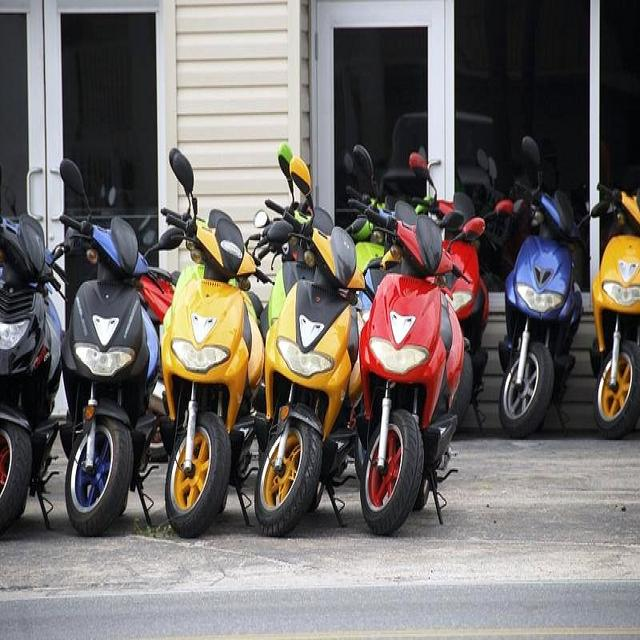motor: (256, 155, 403, 541), (58, 157, 185, 539), (349, 200, 486, 536), (159, 146, 276, 539), (496, 128, 613, 439), (410, 152, 513, 434), (1, 214, 70, 540), (261, 205, 373, 344), (590, 182, 640, 439), (359, 231, 392, 267)
